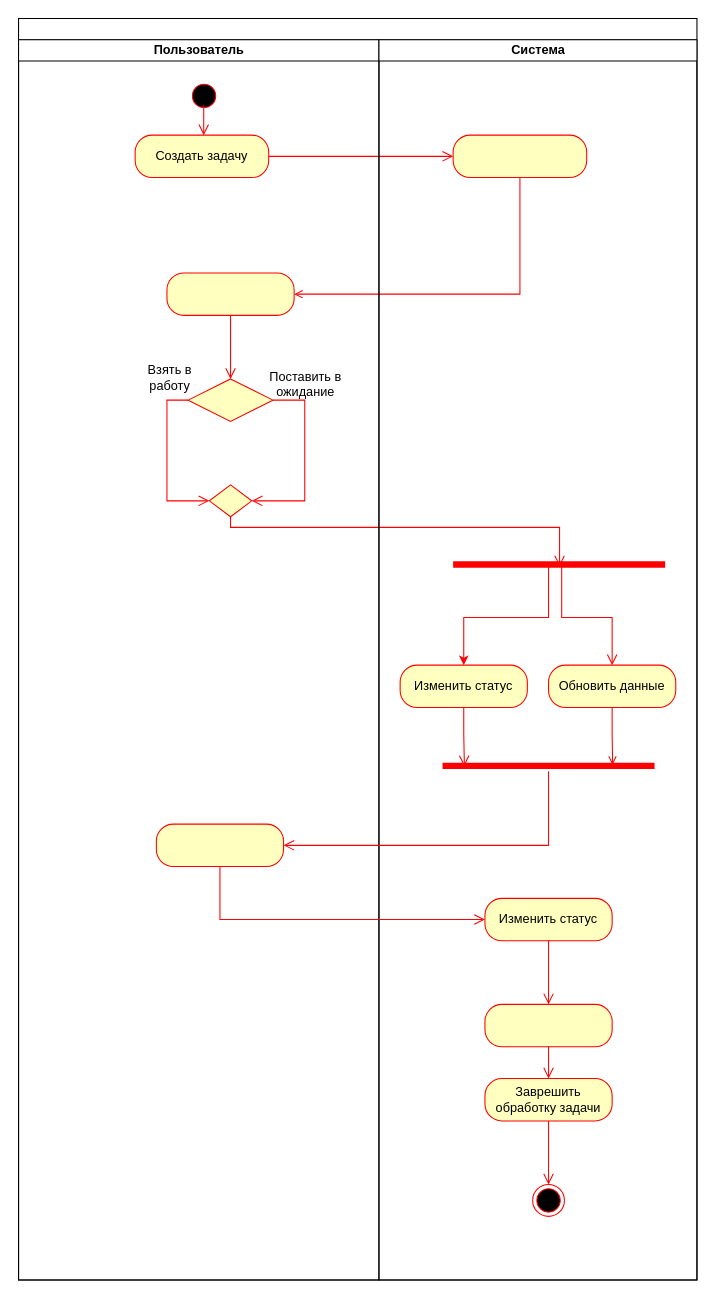
This 715x1298 diagram has some shape labels left out. The shapes that lost their labels are listed below. From the top down, each one's centre as x and y in pixels, then its label:
pixel 519 156: Добавить новую задачу
pixel 230 293: Выбрать действие
pixel 219 845: Нажать "Решить задачу"
pixel 548 1025: Сохранить в БД
